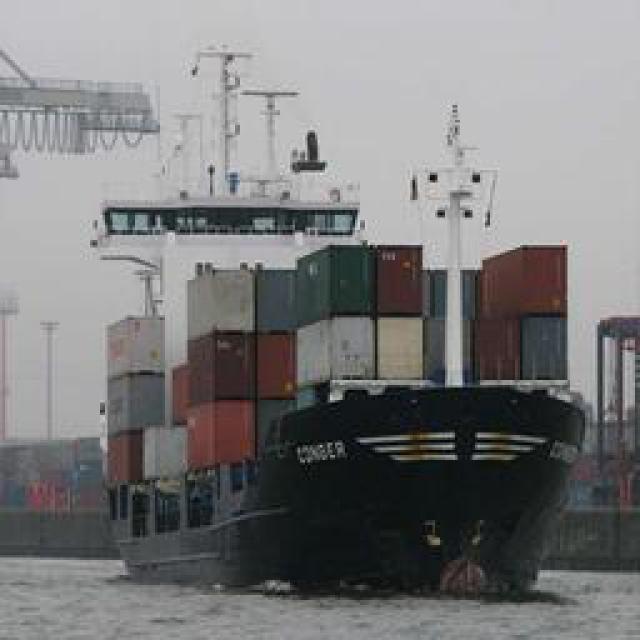Ship: (65, 55, 593, 607)
